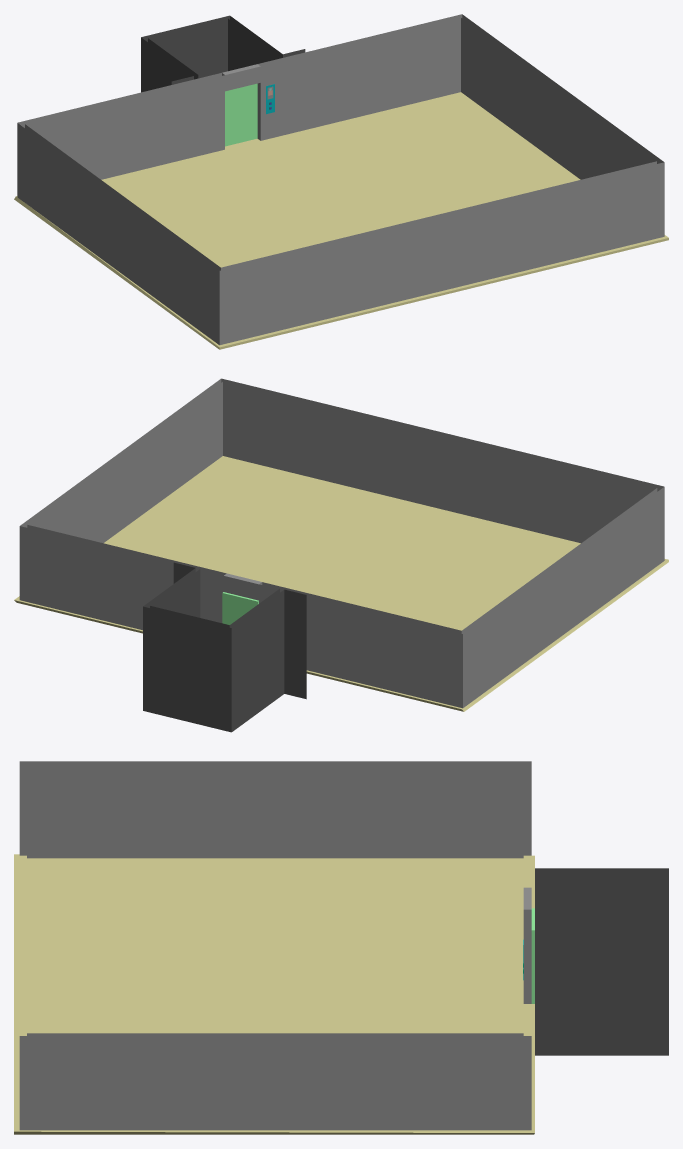
File: Building.FBX
3 renders of one model, top to bottom at view 1: azimuth 30°, elevation 25°; view 2: azimuth 150°, elevation 25°; view 3: azimuth 270°, elevation 25°, orthographic. The views are drawn at different scales.
Parts seen in each view (by area): view 1: Wall, Floor, WellSplit4, Well, WellSplit5, HallDoorLeft, HallDoorRight; view 2: Wall, Floor, Well, WellSplit1, WellSplit5, HallDoorLeft; view 3: Wall, Floor, Well, WellSplit3.
Part boxes in pixels (bbox=[...]): Wall: bbox=[17, 14, 664, 345]; Floor: bbox=[14, 92, 668, 349]; WellSplit4: bbox=[148, 18, 227, 78]; Well: bbox=[141, 15, 282, 92]; WellSplit5: bbox=[228, 18, 278, 71]; HallDoorLeft: bbox=[239, 83, 257, 142]; HallDoorRight: bbox=[225, 88, 239, 146]; Wall: bbox=[19, 378, 664, 708]; Floor: bbox=[14, 456, 668, 711]; Well: bbox=[143, 568, 284, 732]; WellSplit1: bbox=[284, 589, 306, 699]; WellSplit5: bbox=[150, 569, 200, 617]; HallDoorLeft: bbox=[222, 592, 240, 624]; Wall: bbox=[19, 761, 531, 1130]; Floor: bbox=[14, 854, 534, 1134]; Well: bbox=[535, 868, 668, 1055]; WellSplit3: bbox=[535, 871, 662, 920].
Size of the model in its own units: 20.3 by 4.5 by 20.15.
